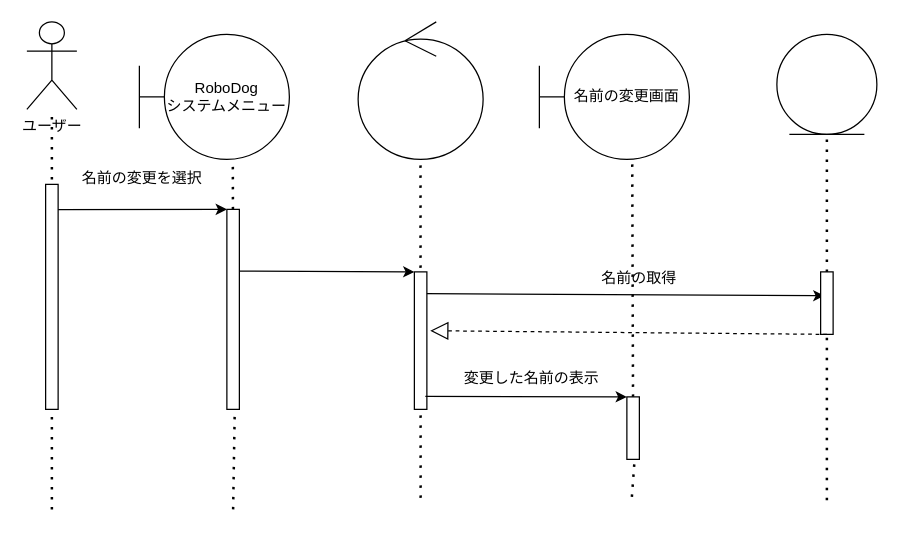
Some shapes in this 899 by 534 pixel diagram are drawn without their labels. Here are the shapes that lost their labels. From the top down, the centre of each, then its label:
At [420,90]: "名前の変更画面の表示する".
At [826,83]: "RoboDog".
